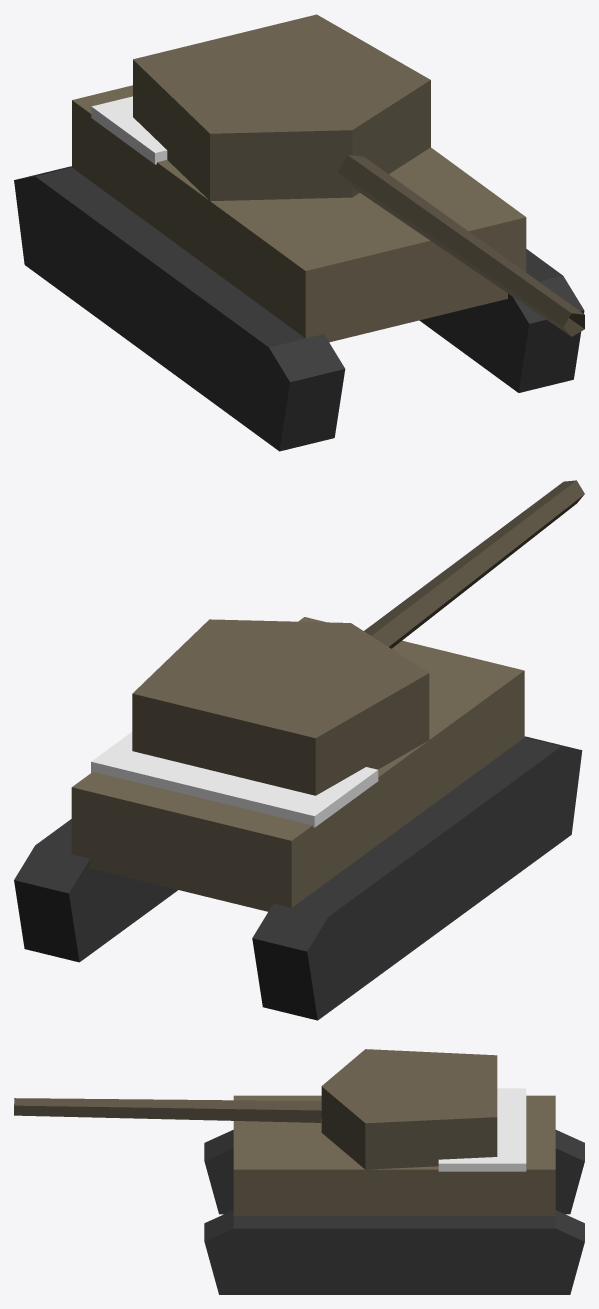
The model's file is Modern Armor.glb.
3 views of the same model, one above another, from view 1: azimuth 30°, elevation 25°; view 2: azimuth 150°, elevation 25°; view 3: azimuth 270°, elevation 25° (orthographic). The views are drawn at different scales.
Visible parts, largest first — view 1: Units_Modern Armor; view 2: Units_Modern Armor; view 3: Units_Modern Armor.
Boxes of the visible parts, x1,y1,x2,y2 form: Units_Modern Armor: (14, 14, 584, 451); Units_Modern Armor: (14, 480, 584, 1020); Units_Modern Armor: (14, 1049, 584, 1294).
Size of the model in its own units: 0.16 by 0.12 by 0.3901.
